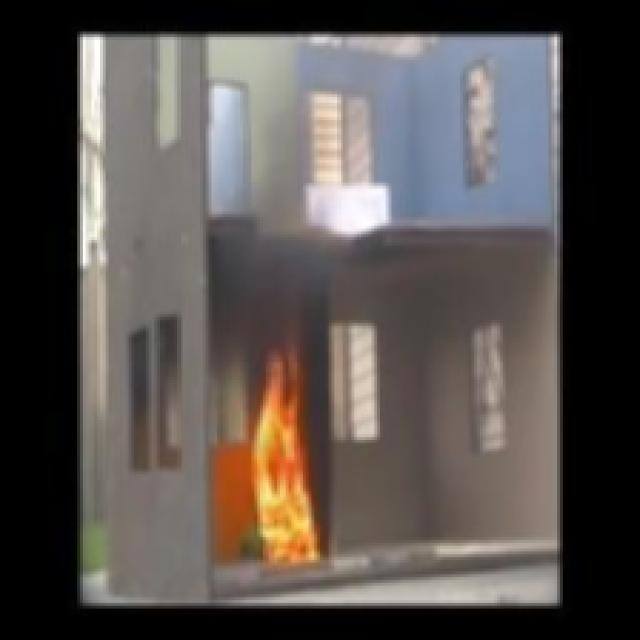fire: (234, 337, 326, 563)
